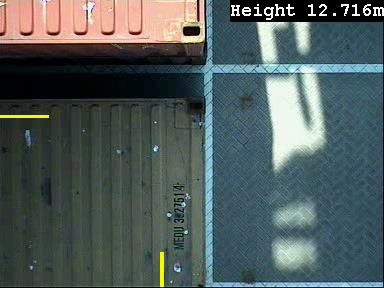groundmarker_2: (160, 64, 222, 105), (188, 212, 229, 271)
